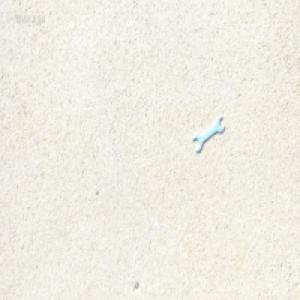Wrench: (192, 116, 223, 151)
